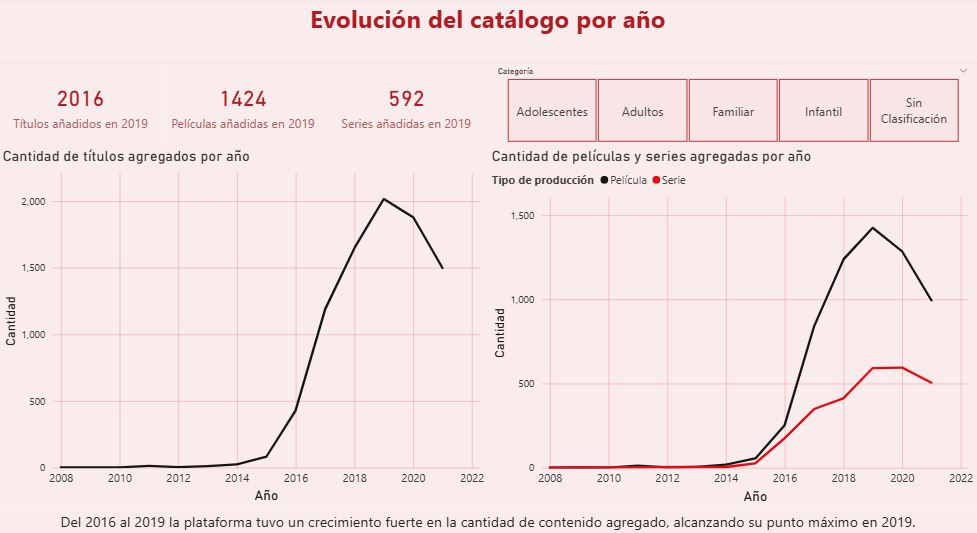

What the dashboard file says about the page in this screenshot:
{"tool":"powerbi","page":{"name":"Evolución","canvas":[1280,720],"ordinal":1},"visuals":[{"type":"textbox","box":[0,0,1280,86.7],"z":0},{"type":"lineChart","title":"Cantidad de películas y series agregadas por año","fields":{"Category":["Netflix_2.year_added"],"Series":["Netflix_2.type"],"Y":["CountNonNull(Netflix_2.show_id)"]},"box":[640,196.7,640,471.7],"z":1000},{"type":"textbox","box":[0,668.3,1280,51.7],"z":2000},{"type":"card","fields":{"Values":["Netflix_2.Prods_anio"]},"box":[0,86.7,213.3,110],"z":3000},{"type":"slicer","fields":{"Values":["Netflix_2.Category"]},"box":[640,86.7,640,110],"z":4000},{"type":"lineChart","title":"Cantidad de títulos agregados por año","fields":{"Category":["Netflix_2.year_added"],"Y":["CountNonNull(Netflix_2.show_id)"]},"box":[0,196.7,640,471.7],"z":5000},{"type":"card","fields":{"Values":["Netflix_2.Películas añadidas en 2019"]},"box":[213.3,86.7,211.7,110],"z":5001},{"type":"card","fields":{"Values":["Netflix_2.Series añadidas en 2019"]},"box":[425,86.7,215,110],"z":5002}]}

Visuals, with their boxes on the page's 1280x720 design canvas (x1, y1, x2, y2). These are canvas units, not pixel positions in the 977x533 screenshot, which may show the page scaled, cropped or inside an application window:
textbox: bbox=(0, 0, 1280, 87)
"Cantidad de películas y series agregadas por año" lineChart: bbox=(640, 197, 1280, 668)
textbox: bbox=(0, 668, 1280, 720)
card - Netflix_2.Prods_anio: bbox=(0, 87, 213, 197)
slicer - Netflix_2.Category: bbox=(640, 87, 1280, 197)
"Cantidad de títulos agregados por año" lineChart: bbox=(0, 197, 640, 668)
card - Netflix_2.Películas añadidas en 2019: bbox=(213, 87, 425, 197)
card - Netflix_2.Series añadidas en 2019: bbox=(425, 87, 640, 197)
